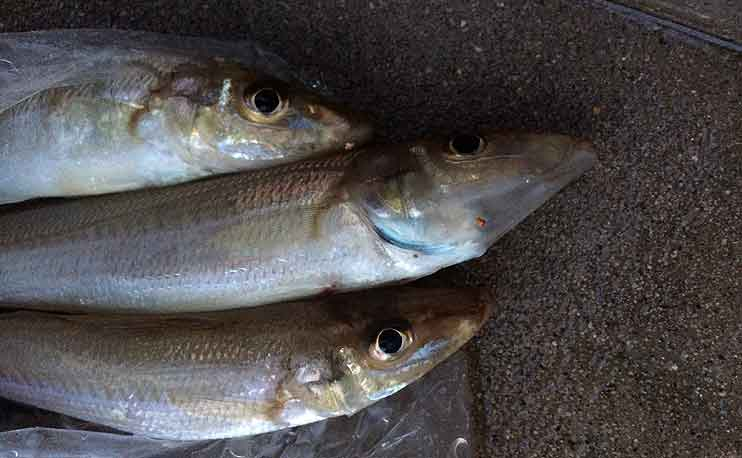kiss: (5, 132, 602, 292), (2, 294, 499, 428), (7, 35, 364, 179)
